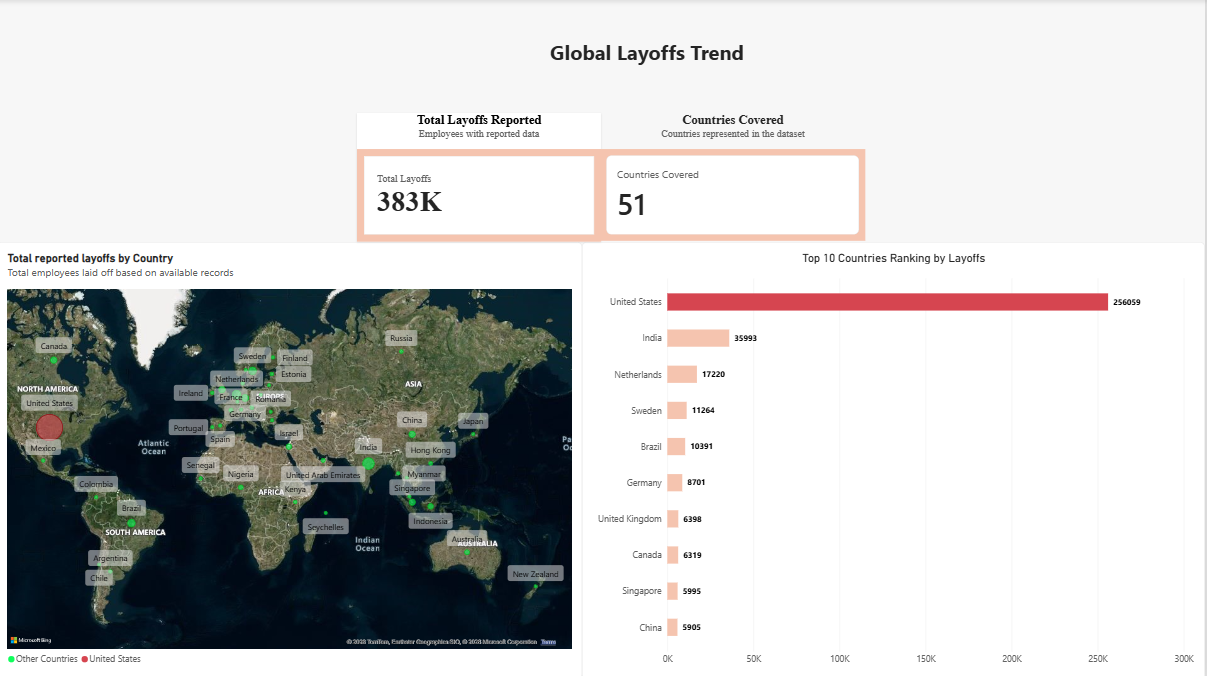

The page's visual inventory and layout, read from the dashboard file:
{"tool":"powerbi","page":{"name":"Page 1","canvas":[1920,1080],"ordinal":0},"visuals":[{"type":"map","title":"Total reported layoffs by Country","fields":{"Category":["cleaned_layoffs_dataset.country"],"Series":["cleaned_layoffs_dataset.Country Highlight"],"Size":["Sum(cleaned_layoffs_dataset.total_laid_off)"]},"box":[0,385.7,931,695.2],"z":0},{"type":"clusteredBarChart","title":"Top 10 Countries Ranking by Layoffs","fields":{"Category":["cleaned_layoffs_dataset.country"],"Y":["Sum(cleaned_layoffs_dataset.total_laid_off)"]},"box":[931,385.7,990.5,695.2],"z":1000},{"type":"cardVisual","title":"Total Layoffs Reported","fields":{"Data":["Sum(cleaned_layoffs_dataset.total_laid_off)"]},"box":[571.4,181,388.1,204.8],"z":2000},{"type":"cardVisual","title":"Countries Covered","fields":{"Data":["cleaned_layoffs_dataset.Countries Covered"]},"box":[960,181.4,422.9,204.3],"z":3000},{"type":"textbox","box":[557.5,62.5,867.5,65],"z":4000}]}

Visuals, with their boxes in screenshot pixels (x1, y1, x2, y2), scaled from the page's 1920x1080 canvas onto the 1207x676 screenshot:
"Total reported layoffs by Country" map: BBox(0, 241, 585, 675)
"Top 10 Countries Ranking by Layoffs" clusteredBarChart: BBox(585, 241, 1206, 675)
"Total Layoffs Reported" cardVisual: BBox(359, 113, 603, 241)
"Countries Covered" cardVisual: BBox(604, 114, 869, 241)
textbox: BBox(350, 39, 896, 80)
